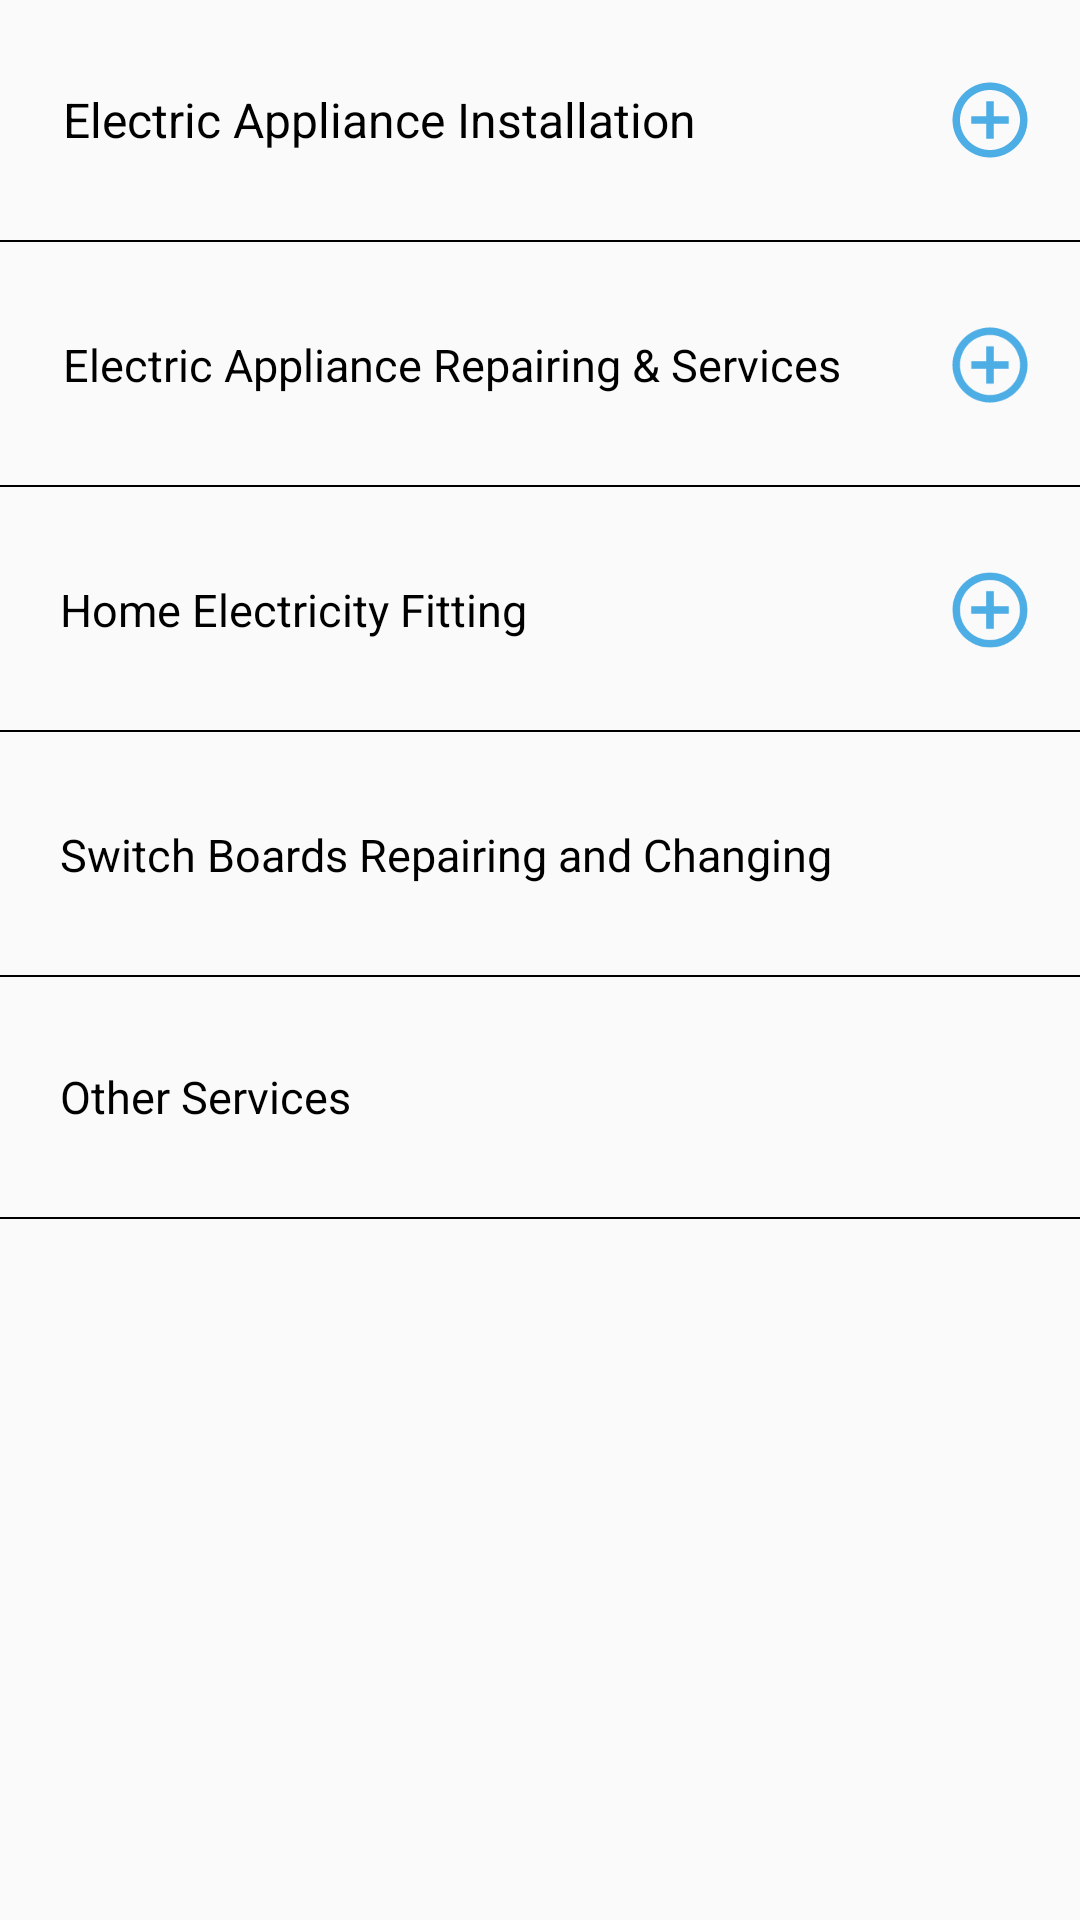

Screen size 1080 x 1920. Icon name, then its center in pixels as point (x, y):
add circle: point (990, 120), point (990, 365), point (990, 610)
